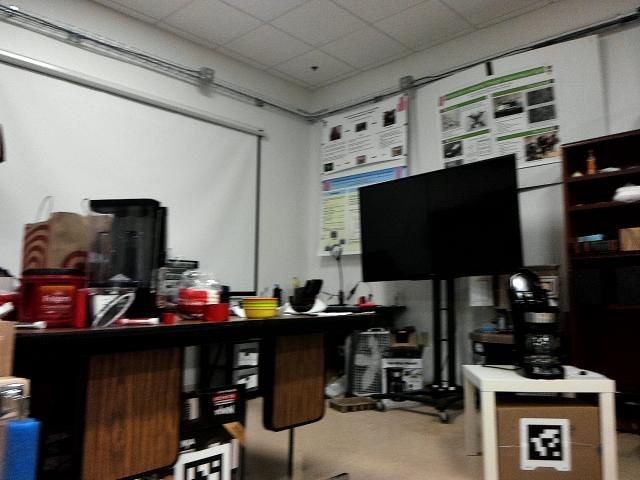noodle_handle: (2, 414, 45, 480)
